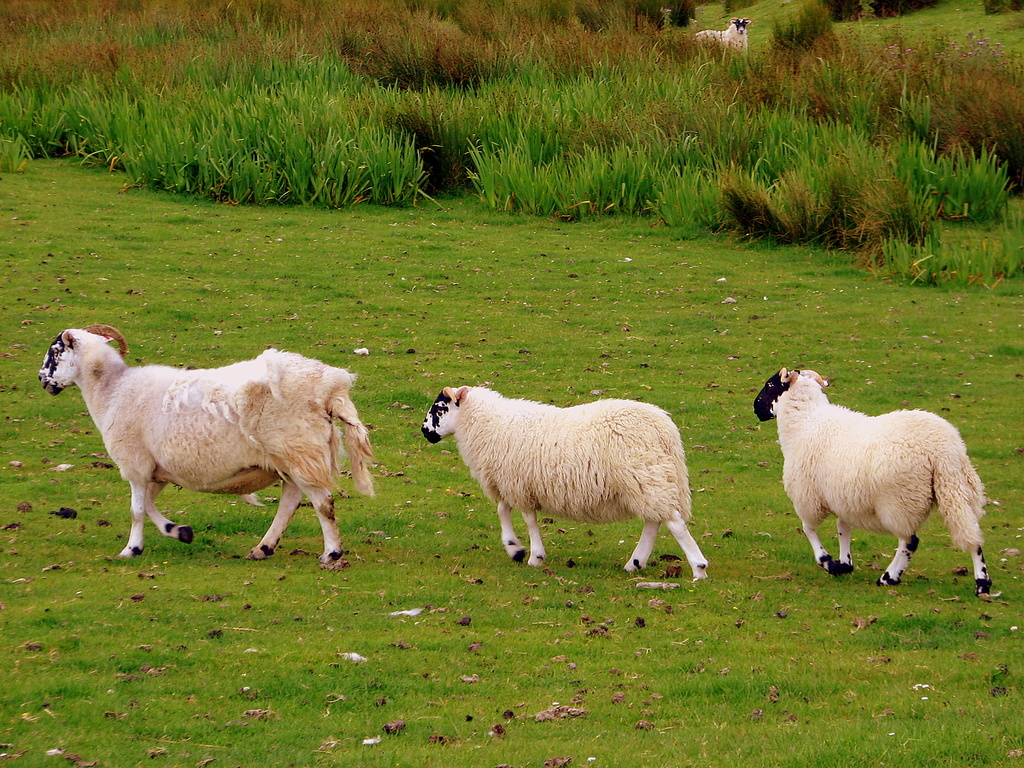sheep: (37, 325, 371, 558), (750, 368, 990, 597), (418, 386, 705, 571)
